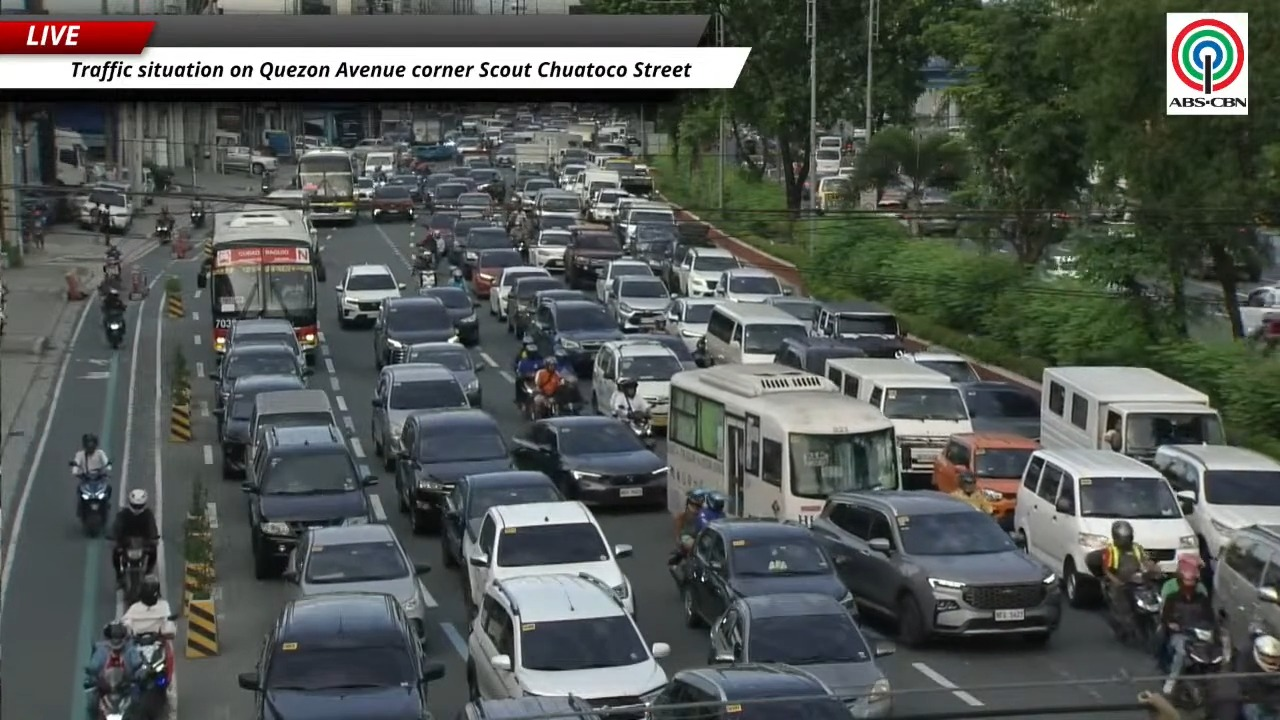bus: (667, 364, 900, 524), (197, 208, 324, 364), (297, 149, 358, 223)
car: (812, 490, 1061, 645), (1015, 448, 1199, 606), (467, 572, 669, 705), (237, 593, 444, 719), (708, 593, 895, 717), (241, 427, 376, 578), (464, 501, 633, 617), (681, 518, 855, 626), (283, 523, 430, 640), (1153, 445, 1279, 566), (390, 410, 513, 533), (512, 415, 667, 505), (441, 470, 564, 567), (645, 663, 858, 719), (371, 363, 469, 470), (932, 432, 1038, 529), (216, 375, 305, 477), (591, 336, 684, 428), (1212, 525, 1279, 647), (530, 299, 625, 376), (209, 344, 312, 409), (373, 295, 456, 369), (248, 389, 338, 457), (405, 342, 484, 407), (215, 318, 314, 365), (961, 381, 1040, 439), (336, 264, 404, 328), (461, 226, 519, 292), (564, 225, 623, 289), (419, 286, 478, 346), (505, 276, 566, 334), (774, 336, 867, 374), (606, 276, 670, 331), (489, 262, 549, 320), (813, 300, 903, 338), (455, 696, 601, 719), (673, 247, 741, 296), (662, 298, 719, 350), (614, 198, 676, 244), (471, 245, 523, 299), (79, 184, 133, 233), (714, 267, 789, 302), (595, 258, 652, 304), (626, 224, 679, 273), (902, 351, 981, 383), (449, 216, 497, 265), (640, 333, 697, 369), (626, 234, 675, 274), (527, 228, 570, 270), (371, 183, 415, 221), (586, 188, 628, 224), (423, 212, 458, 255), (765, 295, 820, 322), (430, 177, 468, 210), (516, 177, 554, 209), (385, 174, 423, 204), (456, 192, 494, 218), (471, 167, 502, 192), (537, 215, 580, 232), (354, 177, 374, 208)
motorcycle: (1085, 550, 1165, 653), (1170, 623, 1229, 708), (1108, 572, 1163, 651), (135, 632, 172, 719), (521, 376, 581, 421), (86, 666, 133, 719), (77, 471, 111, 537), (120, 537, 148, 606), (668, 535, 693, 591), (548, 376, 582, 417), (625, 411, 651, 439), (105, 314, 124, 349), (154, 220, 174, 244), (417, 270, 437, 289), (0, 284, 7, 335), (261, 173, 273, 195), (190, 209, 204, 227)
truck: (1040, 366, 1225, 463), (1240, 285, 1279, 340), (221, 146, 278, 174), (513, 142, 551, 173), (567, 122, 595, 146)
